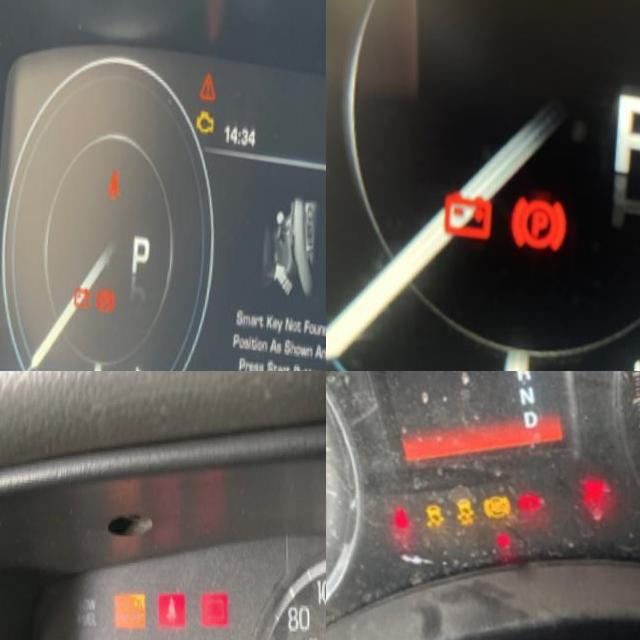Central Warning lamp: (197, 64, 220, 101)
Engine cooling system: (125, 358, 145, 371)
Seat Belt: (163, 593, 181, 624)
